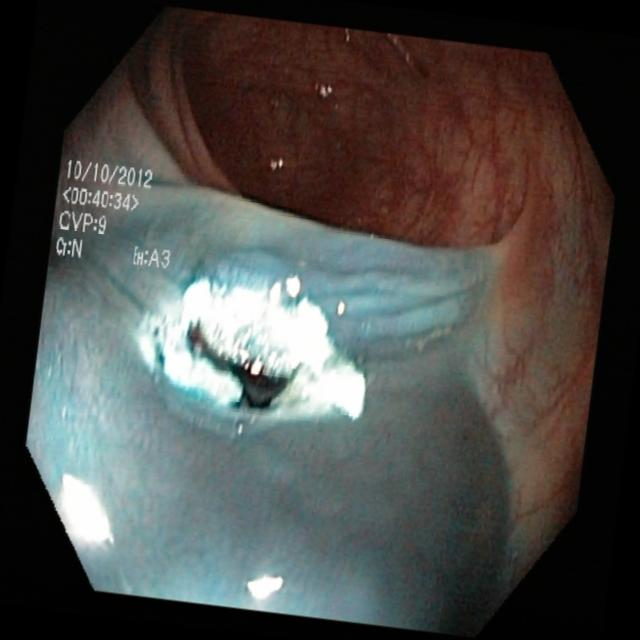dyed-resection-margins: (125, 252, 390, 442)
